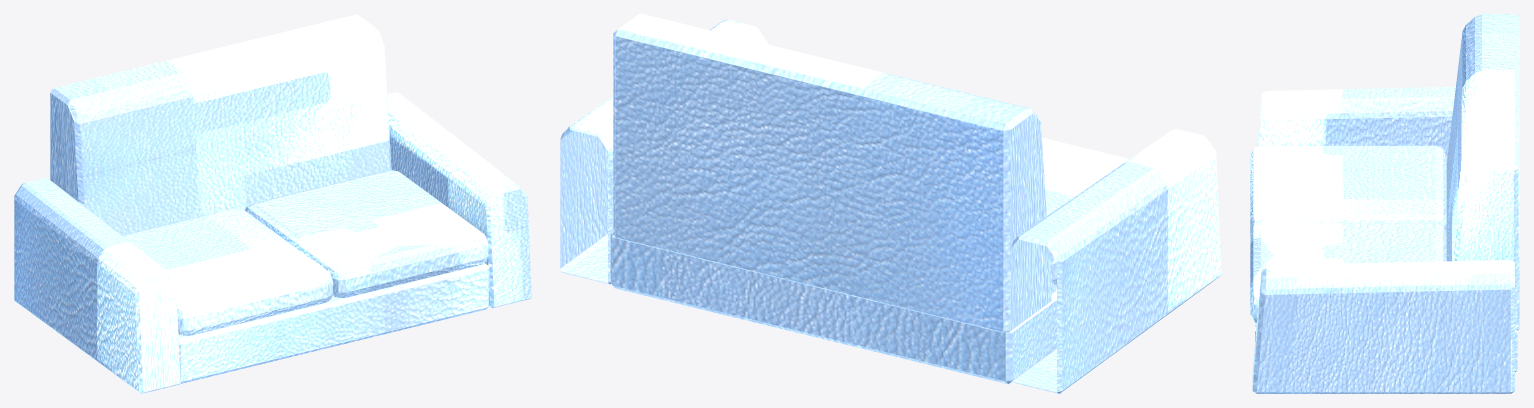
File: test_sofa.gltf
3 views of the same model, side by side, from view 1: azimuth 30°, elevation 25°; view 2: azimuth 150°, elevation 25°; view 3: azimuth 270°, elevation 25° (orthographic). The views are drawn at different scales.
Parts seen in each view (by area): view 1: Cube.044; view 2: Cube.044; view 3: Cube.044.
Boxes of the visible parts, x1=… form: Cube.044: x1=14, y1=14, x2=531, y2=393; Cube.044: x1=560, y1=14, x2=1221, y2=393; Cube.044: x1=1250, y1=14, x2=1519, y2=393.
Bounding box in the file's own units: 9.18 × 4.56 × 5.36.
